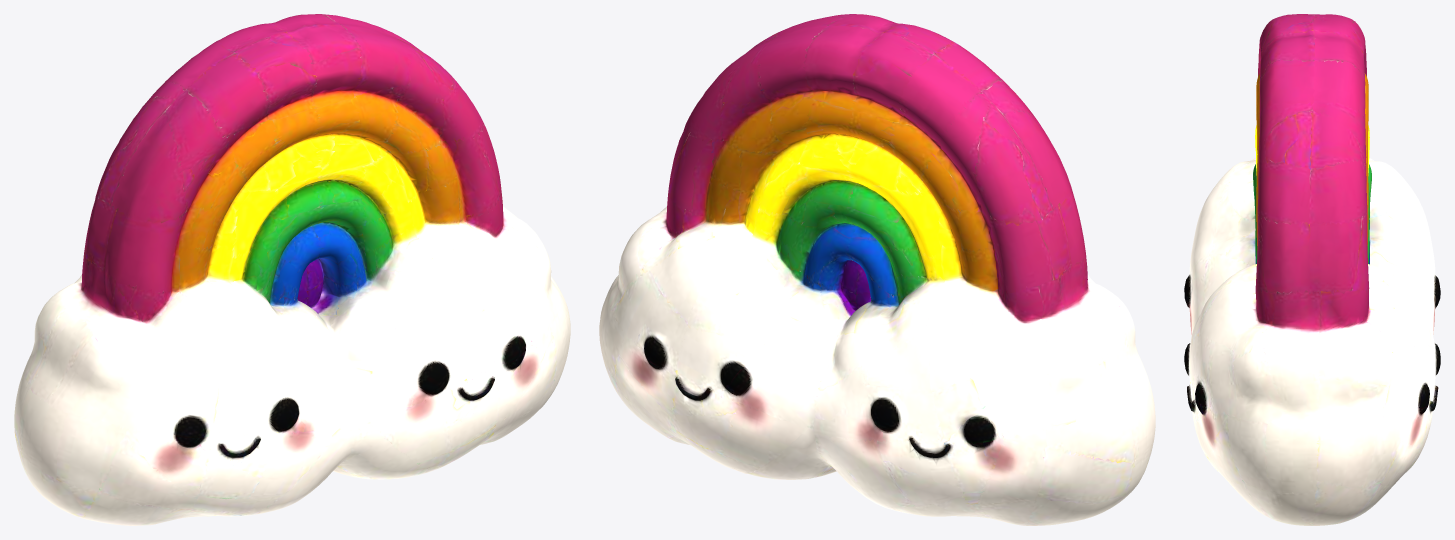
3 views of the same model, side by side, from view 1: azimuth 30°, elevation 25°; view 2: azimuth 150°, elevation 25°; view 3: azimuth 270°, elevation 25° (orthographic). The views are drawn at different scales.
Bounding box in the file's own units: 1.9 × 1.5 × 0.8591.
1 material, 1 textured.
